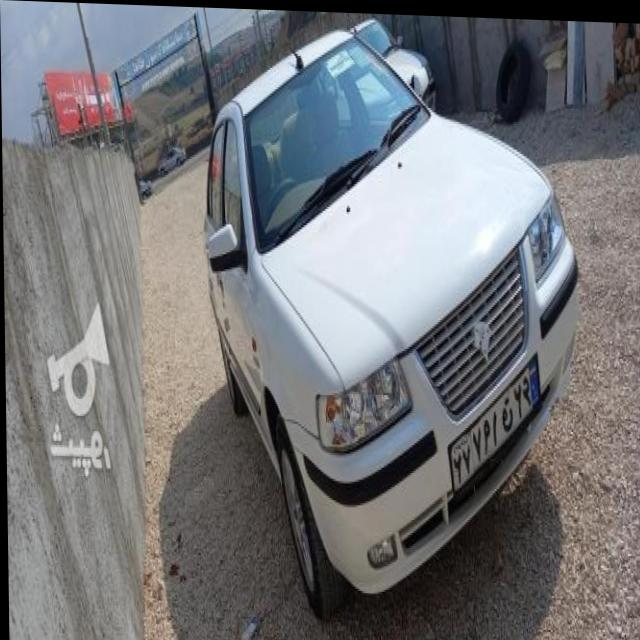licence: (447, 349, 542, 491)
